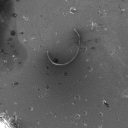corrosion: (101, 100, 111, 109), (69, 6, 77, 16), (9, 29, 17, 37), (63, 70, 69, 78), (43, 84, 50, 90)
